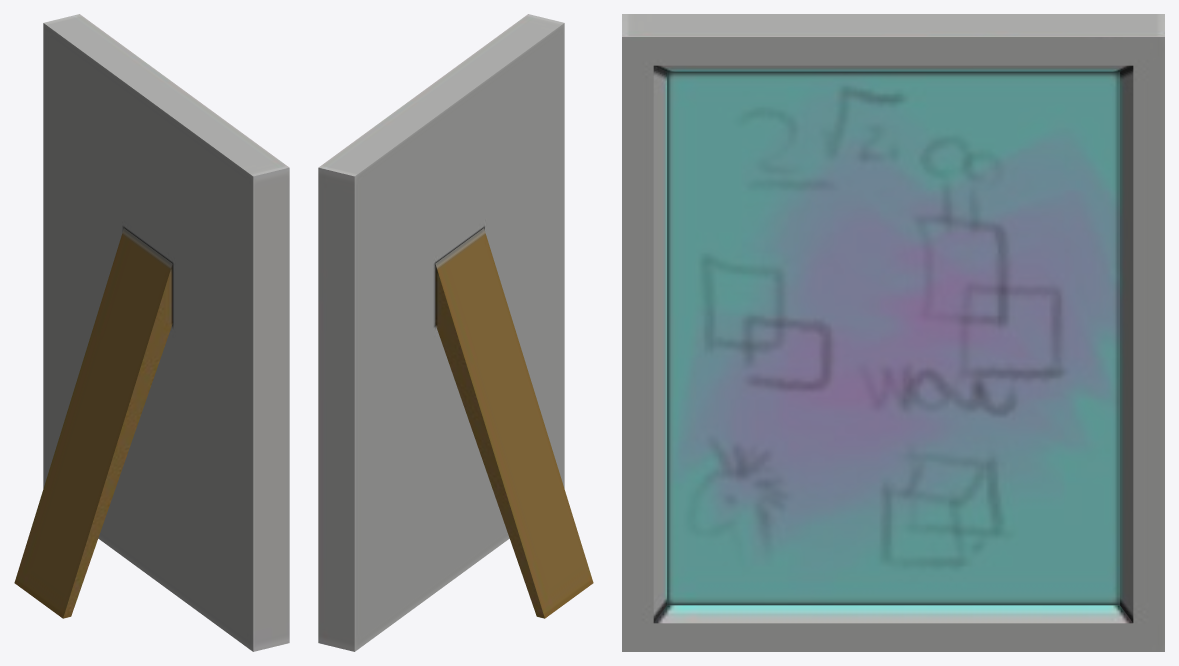
Rendered from portafoto.FBX.
3 views of the same model, side by side, from view 1: azimuth 30°, elevation 25°; view 2: azimuth 150°, elevation 25°; view 3: azimuth 270°, elevation 25° (orthographic). The views are drawn at different scales.
Parts seen in each view (by area): view 1: portafoto; view 2: portafoto; view 3: portafoto.
Boxes of the visible parts, x1=… form: portafoto: x1=14, y1=14, x2=289, y2=651; portafoto: x1=318, y1=14, x2=593, y2=651; portafoto: x1=622, y1=14, x2=1164, y2=651.
Bounding box in the file's own units: 0.0803 × 0.25 × 0.2.
